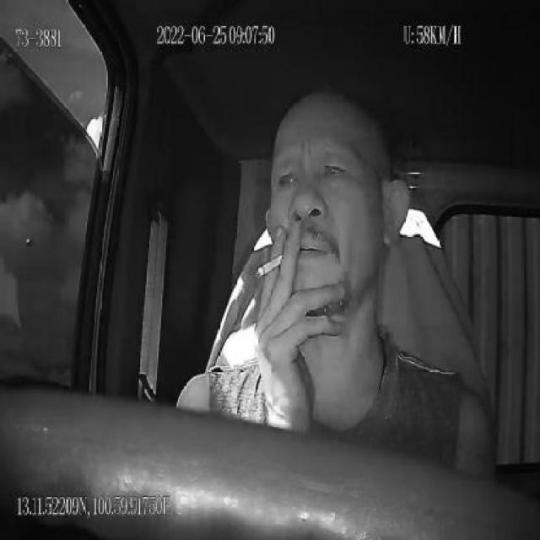smoking: (256, 252, 286, 280)
